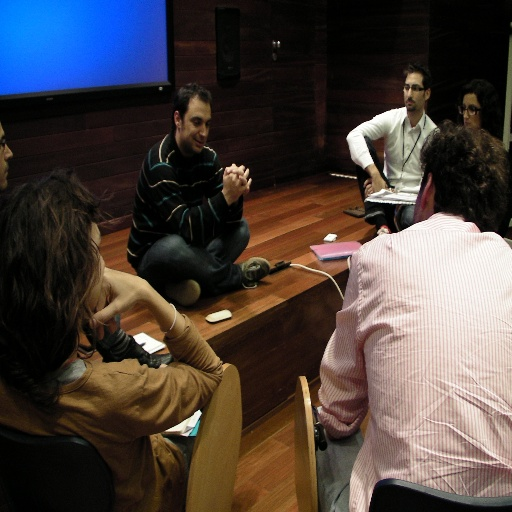hand: (88, 264, 142, 340), (221, 164, 252, 201), (227, 163, 253, 203), (370, 175, 387, 192), (364, 177, 372, 198)
